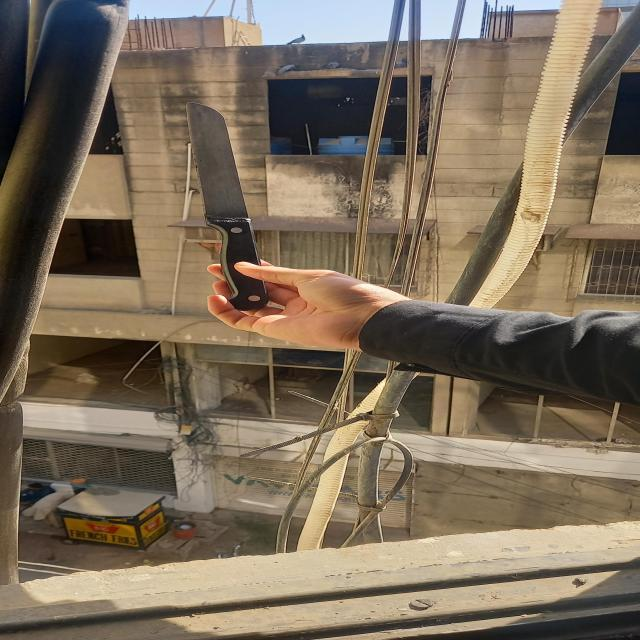faca: (186, 102, 270, 311)
